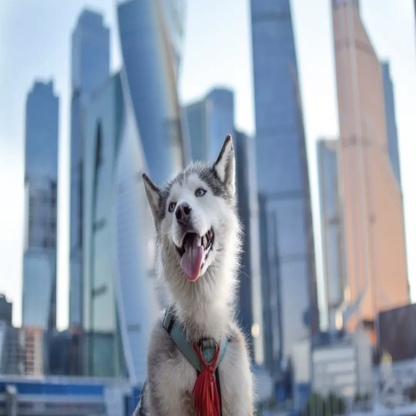husky: (134, 131, 259, 416)
